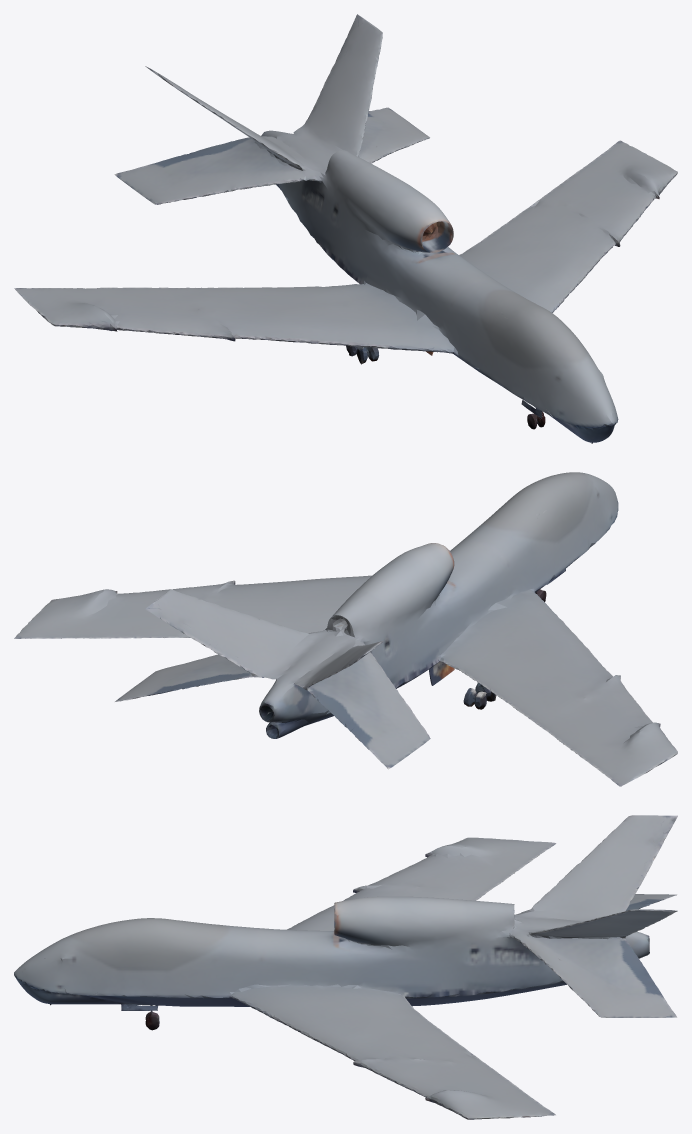
The model's file is WZ-7_Soaring_Dragon_AI_Rodin.glb.
3 views of the same model, one above another, from view 1: azimuth 30°, elevation 25°; view 2: azimuth 150°, elevation 25°; view 3: azimuth 270°, elevation 25° (orthographic). The views are drawn at different scales.
Parts seen in each view (by area): view 1: model; view 2: model; view 3: model.
Part boxes in pixels (bbox=[...]): model: bbox=[14, 14, 677, 443]; model: bbox=[14, 472, 677, 786]; model: bbox=[14, 815, 677, 1119].
Size of the model in its own units: 1.9 by 0.5229 by 1.9.
Materials: 1 (1 with a texture image).
